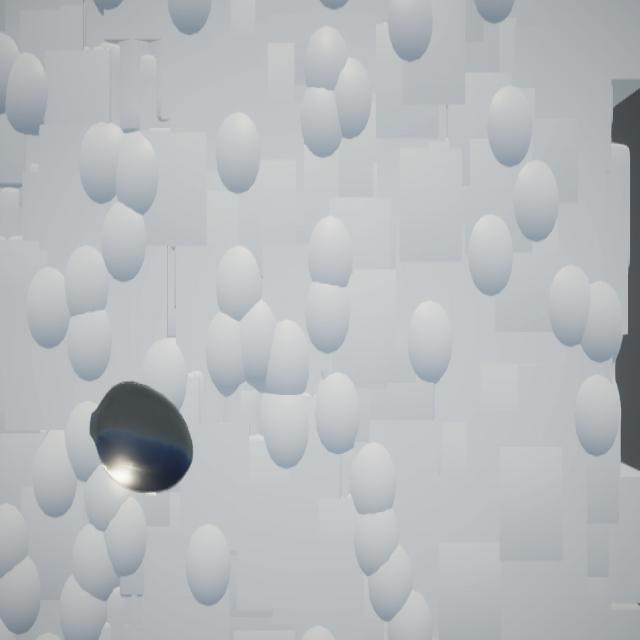top_spoon: (91, 382, 195, 495)
